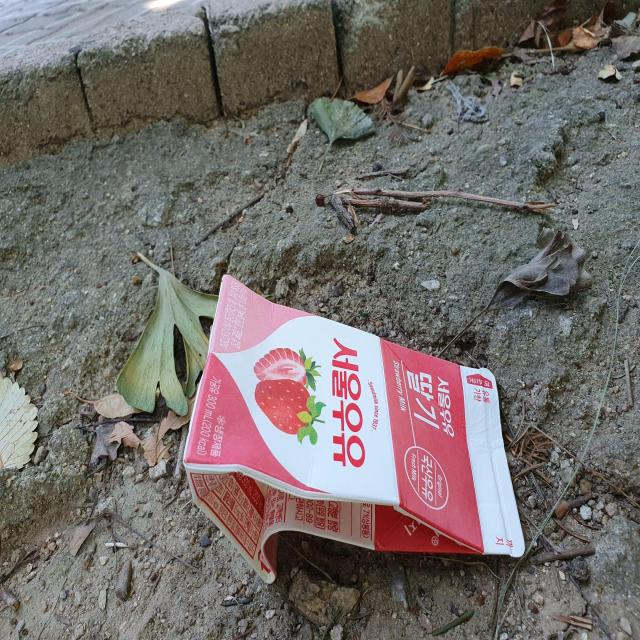paperpack: (184, 276, 525, 583)
